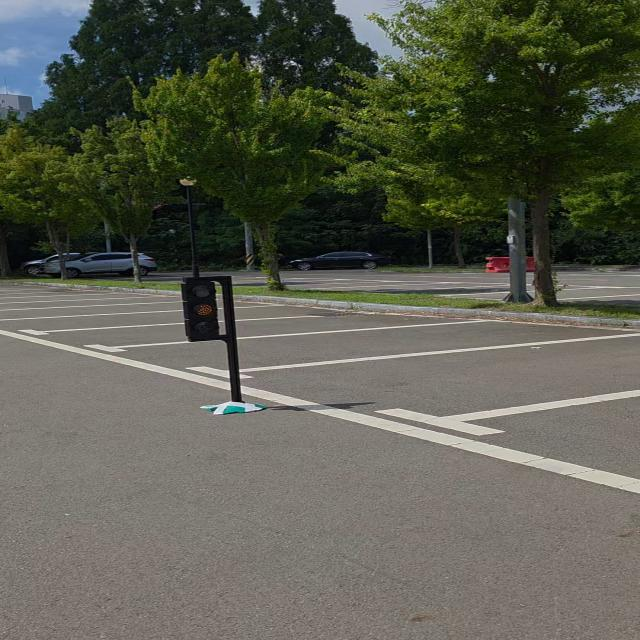yellow: (170, 279, 242, 347)
